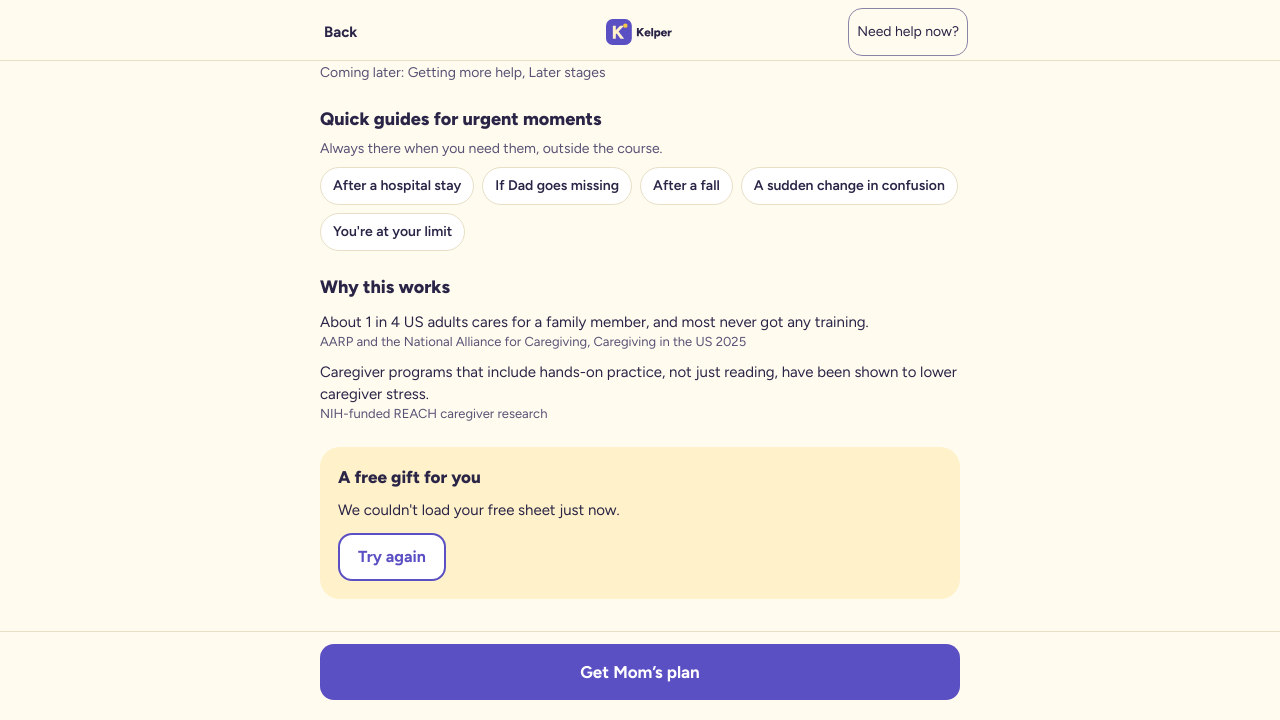
Scenario: PlanPage › a failing gift request shows an inline retry and does not block the page
The width and height of the screenshot is (1280, 720).
(page scrolled)
Expected: the button "Get Mom’s plan" is shown, [320,644,960,700]
Click the button "Try again" at (392, 557), box [338,533,446,581]
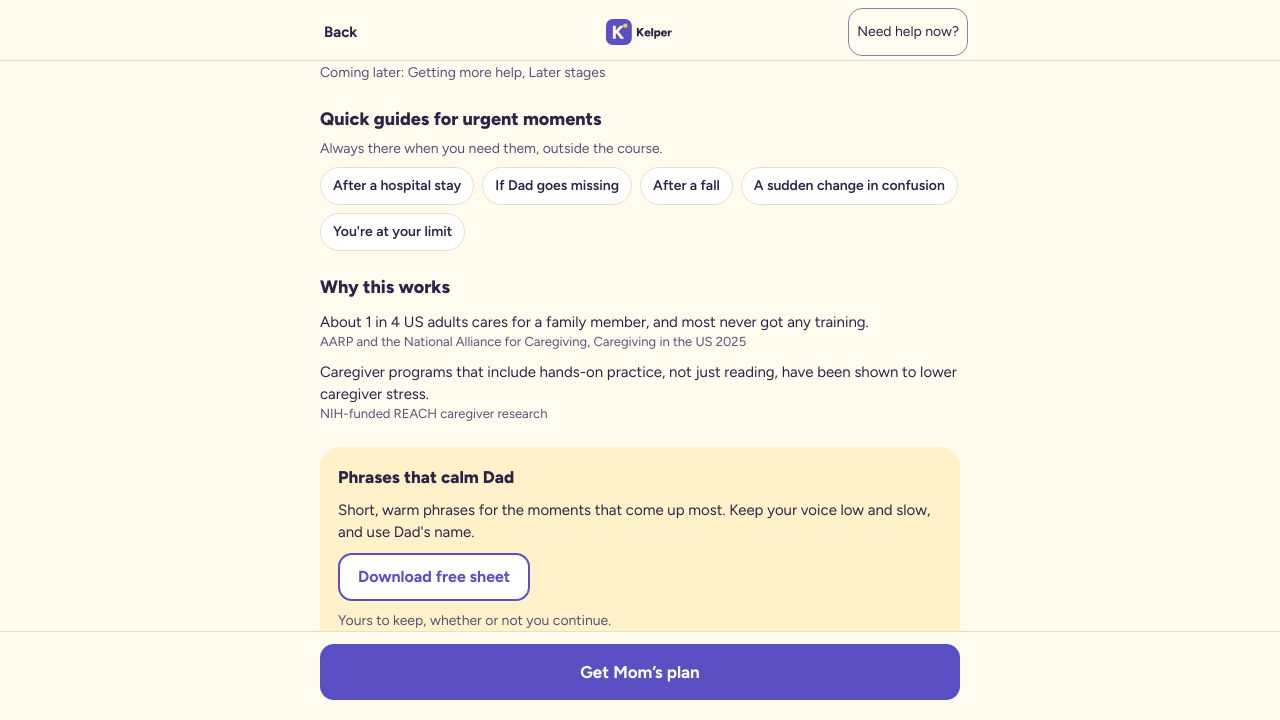
Result: the link "Download free sheet" is shown at [338,553,530,601]
